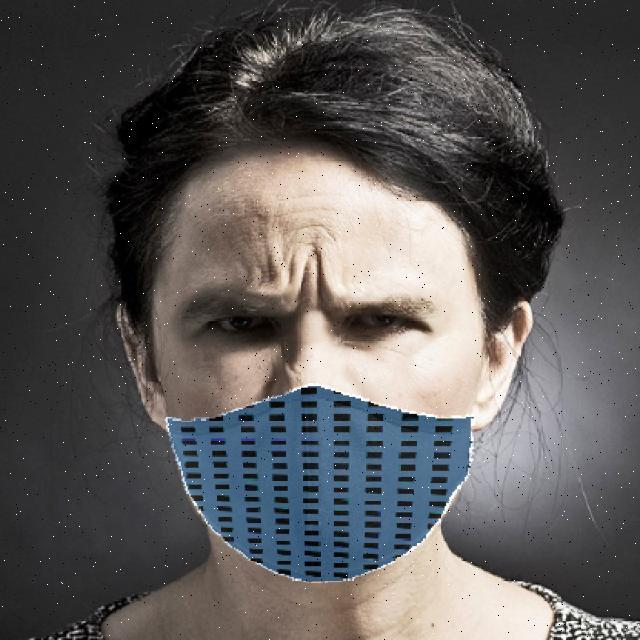1_mascarilla: (165, 383, 476, 589)
